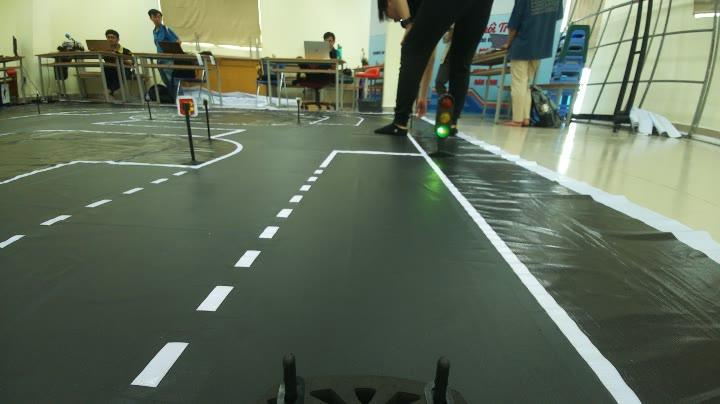trafficlight: (426, 88, 464, 167)
